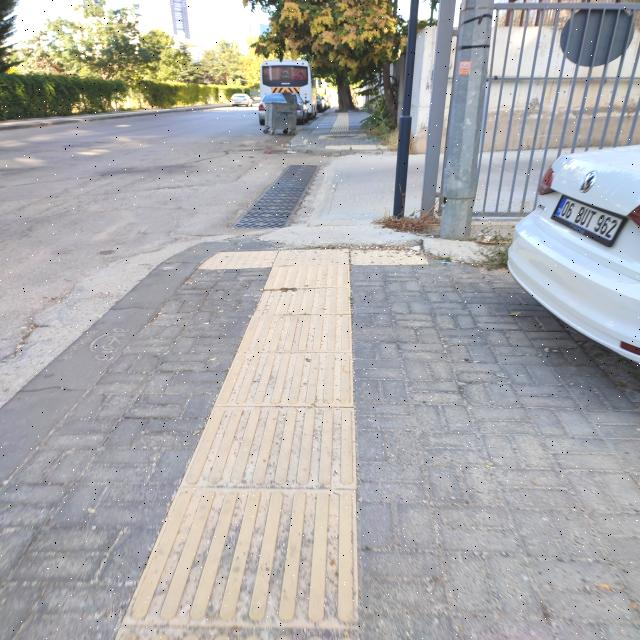sidewalk: (3, 238, 637, 640)
